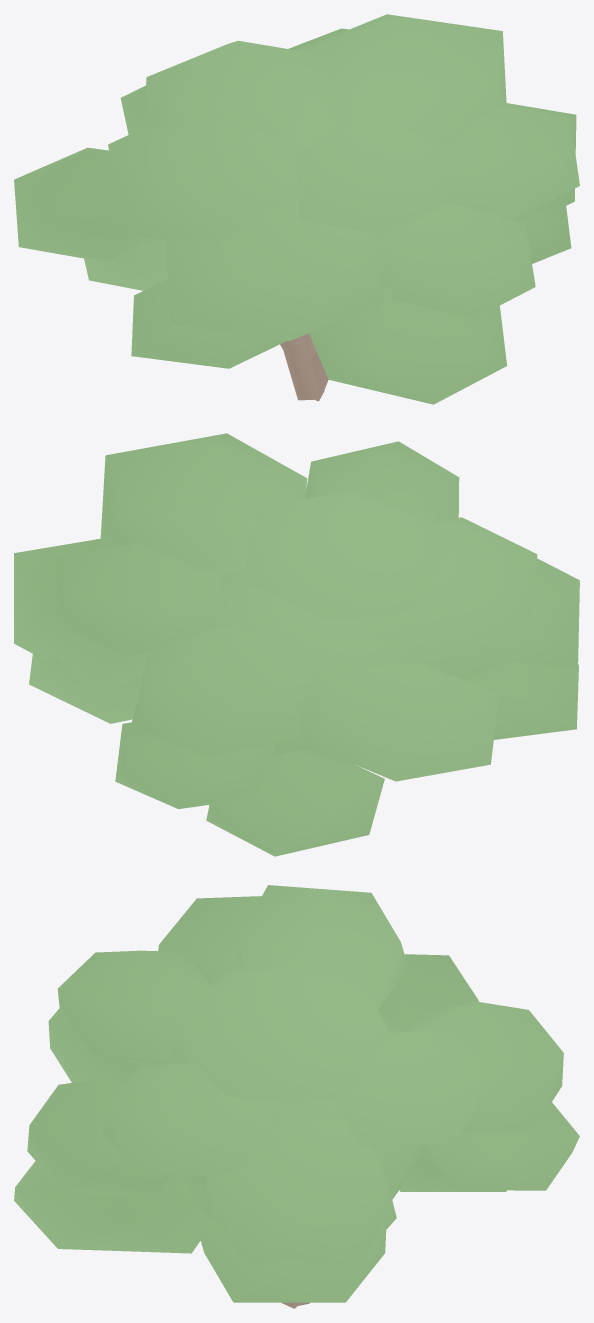
File: Blender_Shrub_1_Far.glb
3 views of the same model, one above another, from view 1: azimuth 30°, elevation 25°; view 2: azimuth 150°, elevation 25°; view 3: azimuth 270°, elevation 25° (orthographic). The views are drawn at different scales.
Visible parts, largest first — view 1: Blender_Shrub_1_Far; view 2: Blender_Shrub_1_Far; view 3: Blender_Shrub_1_Far.
Part boxes in pixels (x1,y1,x2,y2): Blender_Shrub_1_Far: [14, 14, 579, 404]; Blender_Shrub_1_Far: [14, 433, 579, 856]; Blender_Shrub_1_Far: [14, 885, 579, 1308].
Size of the model in its own units: 2.36 by 1.61 by 2.15.
